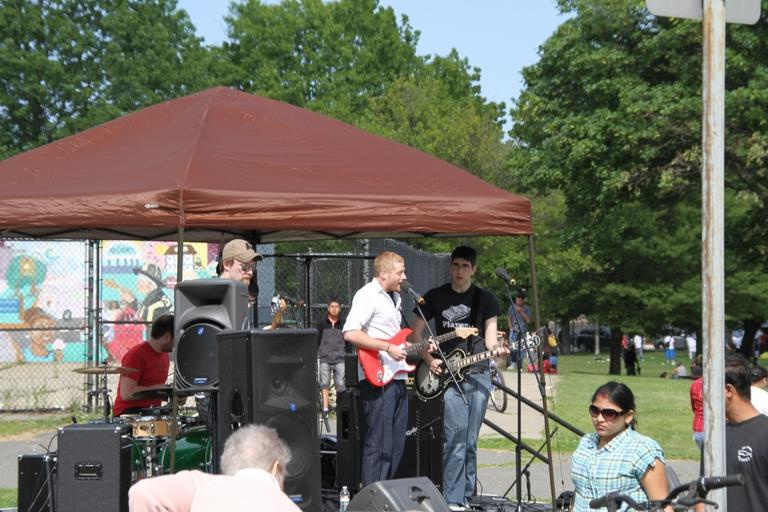non-vehicle: (581, 472, 751, 512), (489, 361, 508, 413)
